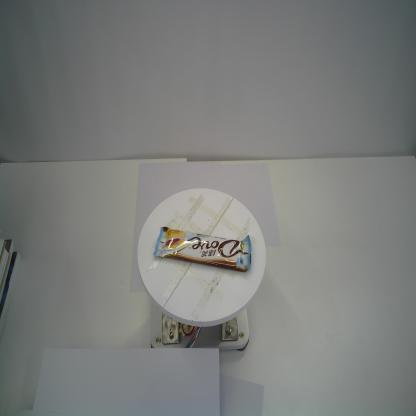Chocolate: (152, 225, 254, 274)
